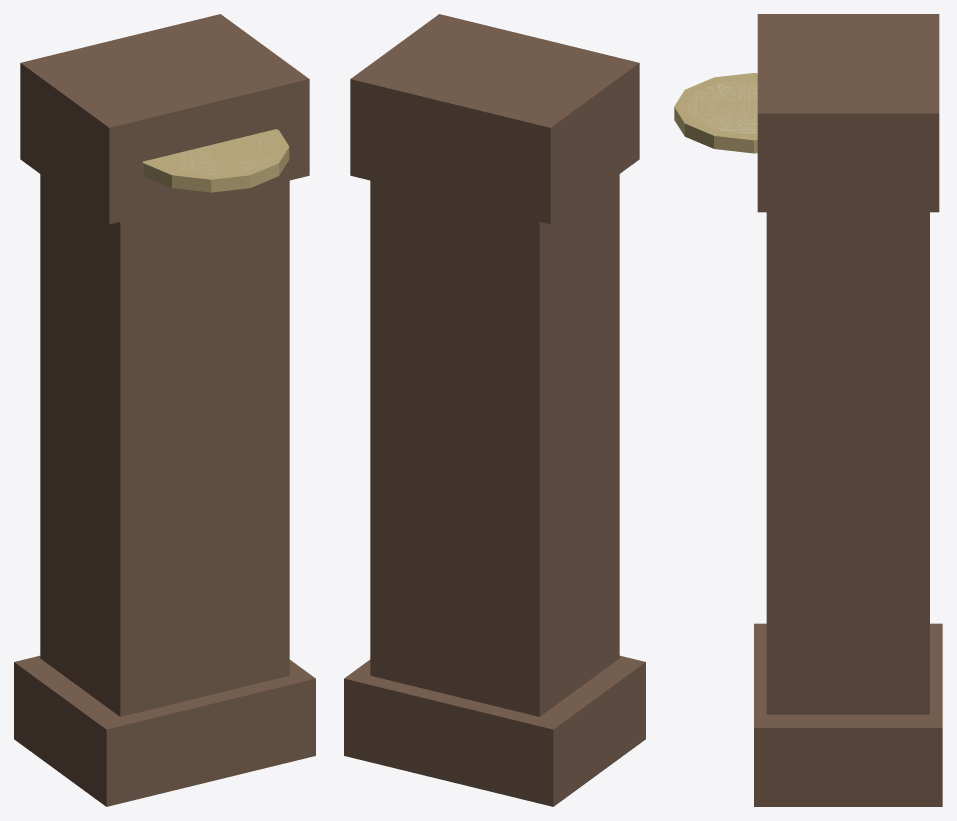
Rendered from haunted_clock_short.glb.
3 views of the same model, side by side, from view 1: azimuth 30°, elevation 25°; view 2: azimuth 150°, elevation 25°; view 3: azimuth 270°, elevation 25° (orthographic). The views are drawn at different scales.
Parts seen in each view (by area): view 1: Haunted_Clock_Short; view 2: Haunted_Clock_Short; view 3: Haunted_Clock_Short.
Part boxes in pixels (x1,y1,x2,y2): Haunted_Clock_Short: (14, 14, 315, 806); Haunted_Clock_Short: (344, 14, 645, 806); Haunted_Clock_Short: (674, 14, 942, 806).
Size of the model in its own units: 0.68 by 2.1 by 0.74.
